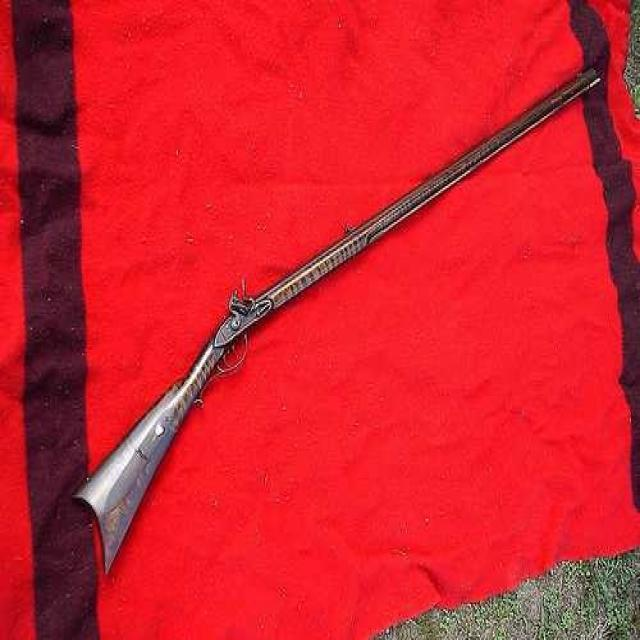Rifle: (66, 46, 618, 603)
